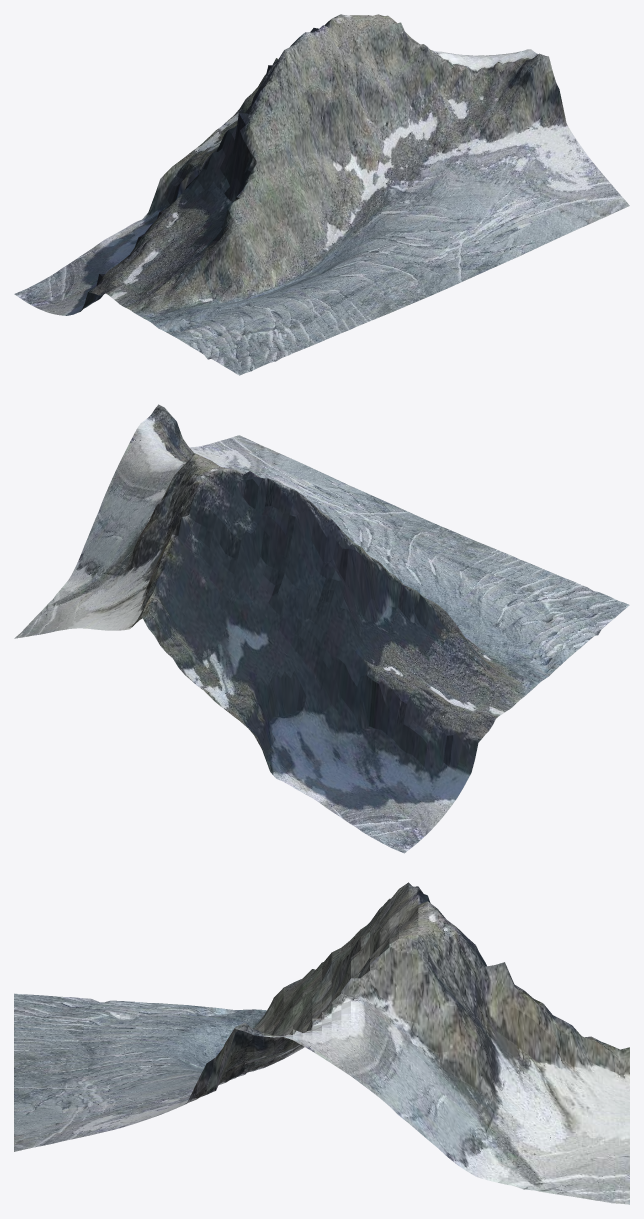
The model's file is Silv_tile_15.gltf.
3 renders of one model, top to bottom at view 1: azimuth 30°, elevation 25°; view 2: azimuth 150°, elevation 25°; view 3: azimuth 270°, elevation 25°, orthographic. The views are drawn at different scales.
Visible parts, largest first — view 1: 18.008; view 2: 18.008; view 3: 18.008.
Boxes of the visible parts, left/top/right/bottom form: 18.008: left=14, top=14, right=629, bottom=375; 18.008: left=14, top=404, right=629, bottom=853; 18.008: left=14, top=882, right=629, bottom=1204.
Bounding box in the file's own units: 0.5 × 0.3305 × 0.5.
1 material, 1 textured.
